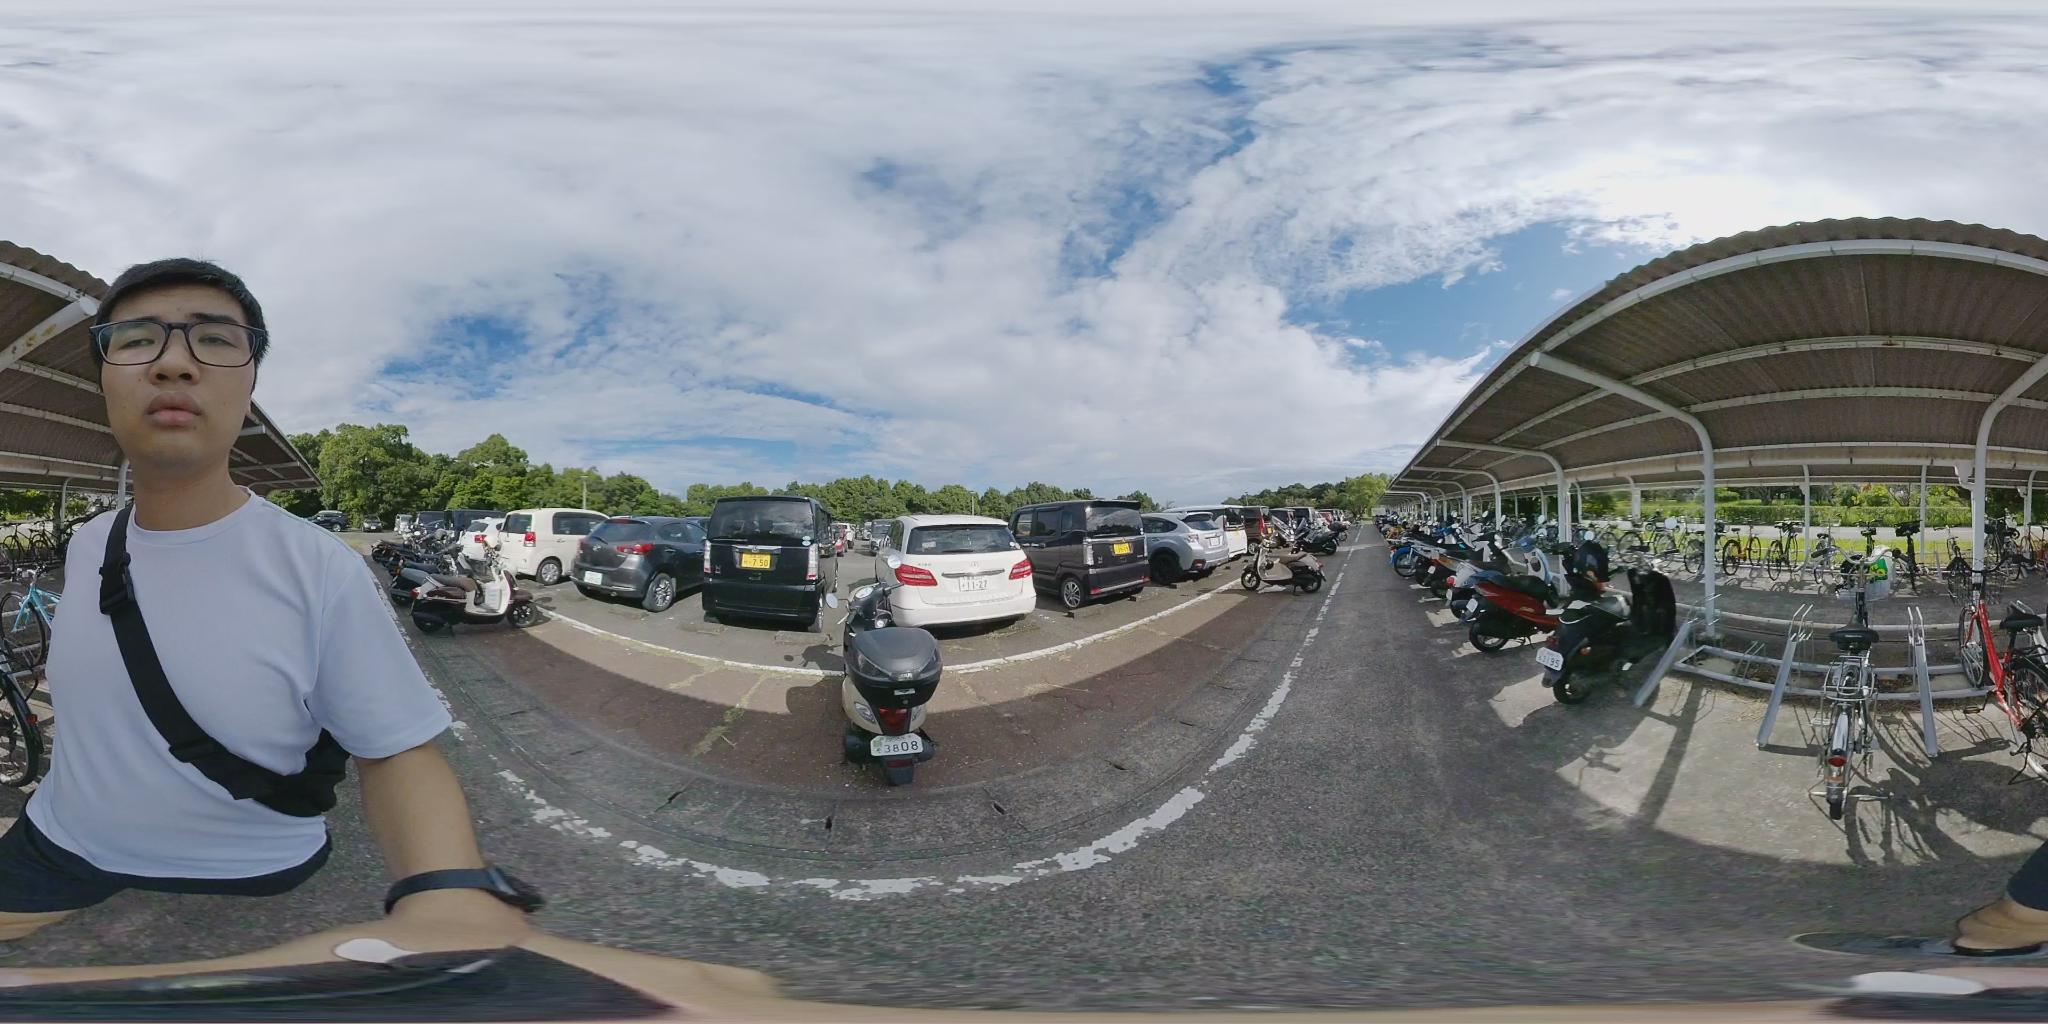car: (870, 515, 1036, 636), (707, 496, 832, 632), (1008, 503, 1145, 610), (572, 519, 712, 611)
